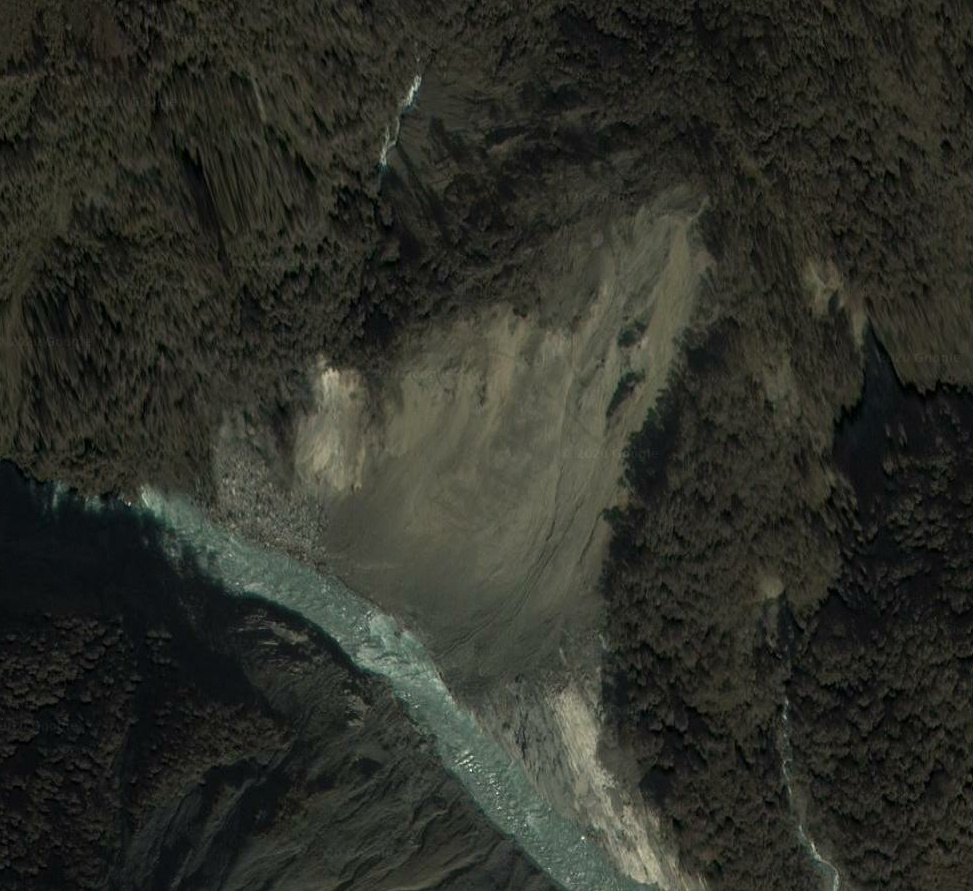slope: (208, 179, 724, 887), (787, 248, 872, 348)
